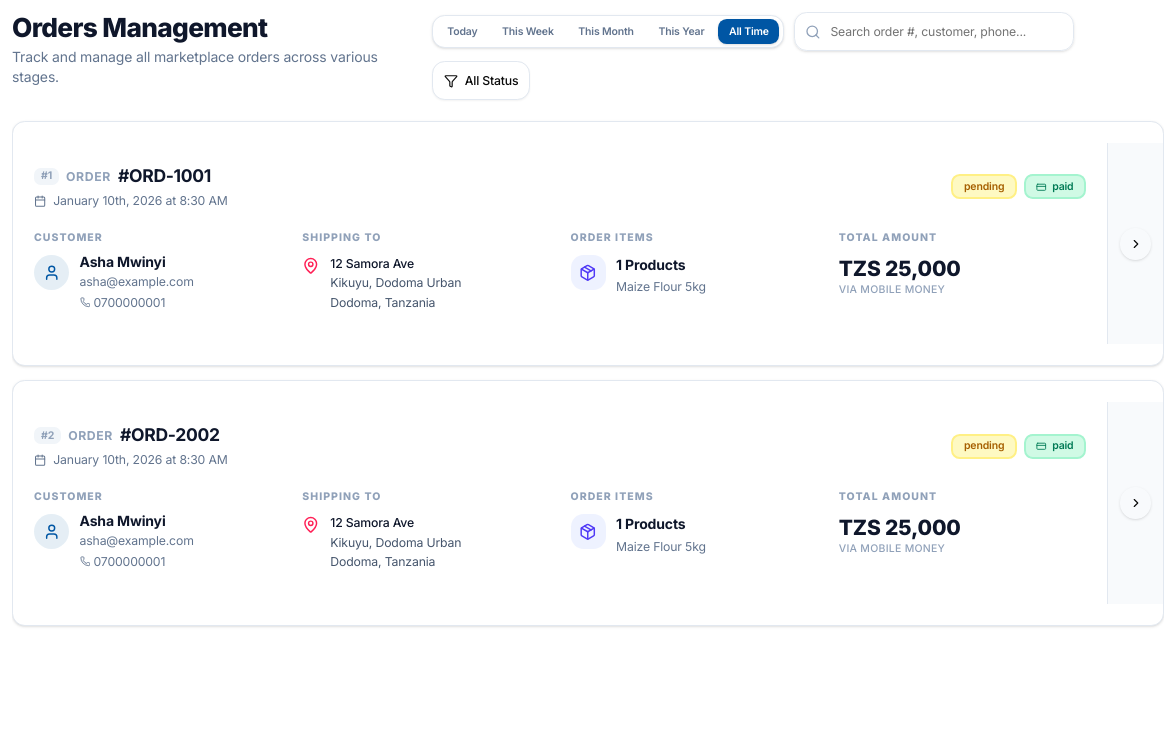
Test case: OrdersManagementTab › filters by order number
Type "2002" into the field with placeholder "Search order #, customer, phone..." at (934, 32), box [794,12,1074,51]
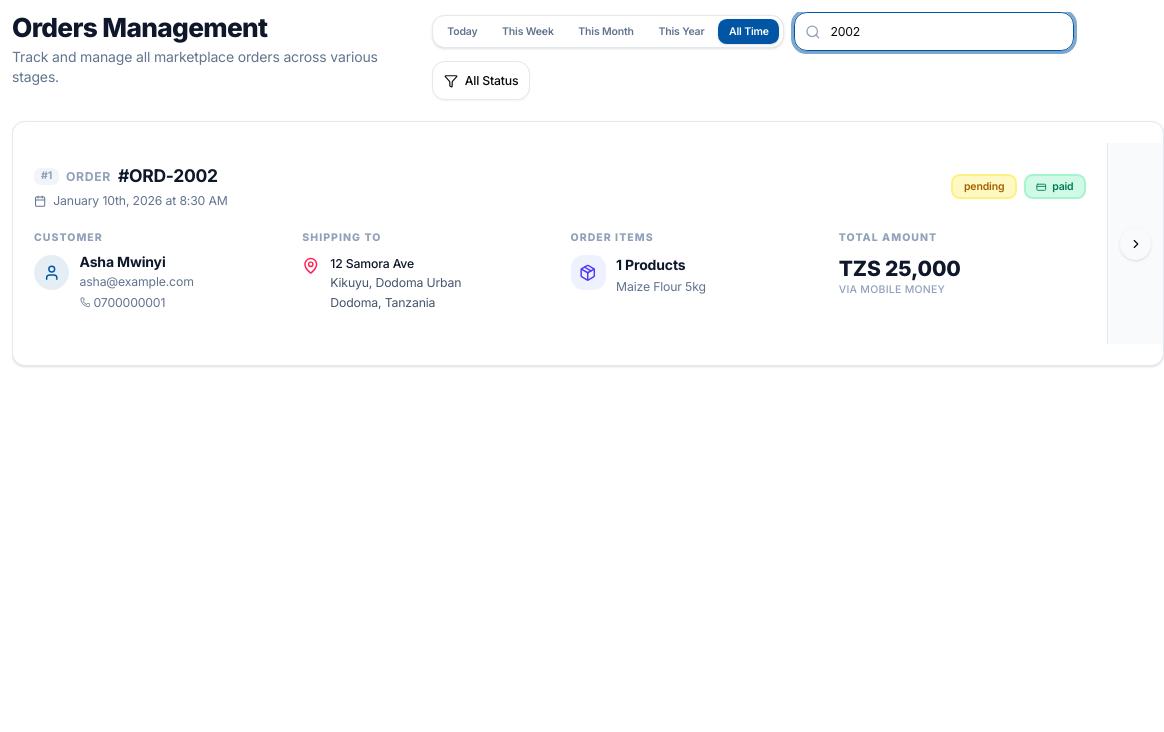
Expected: the heading "#ORD-2002" is shown, [118,164,218,189]
Expected: the heading "#ORD-1001" is gone
